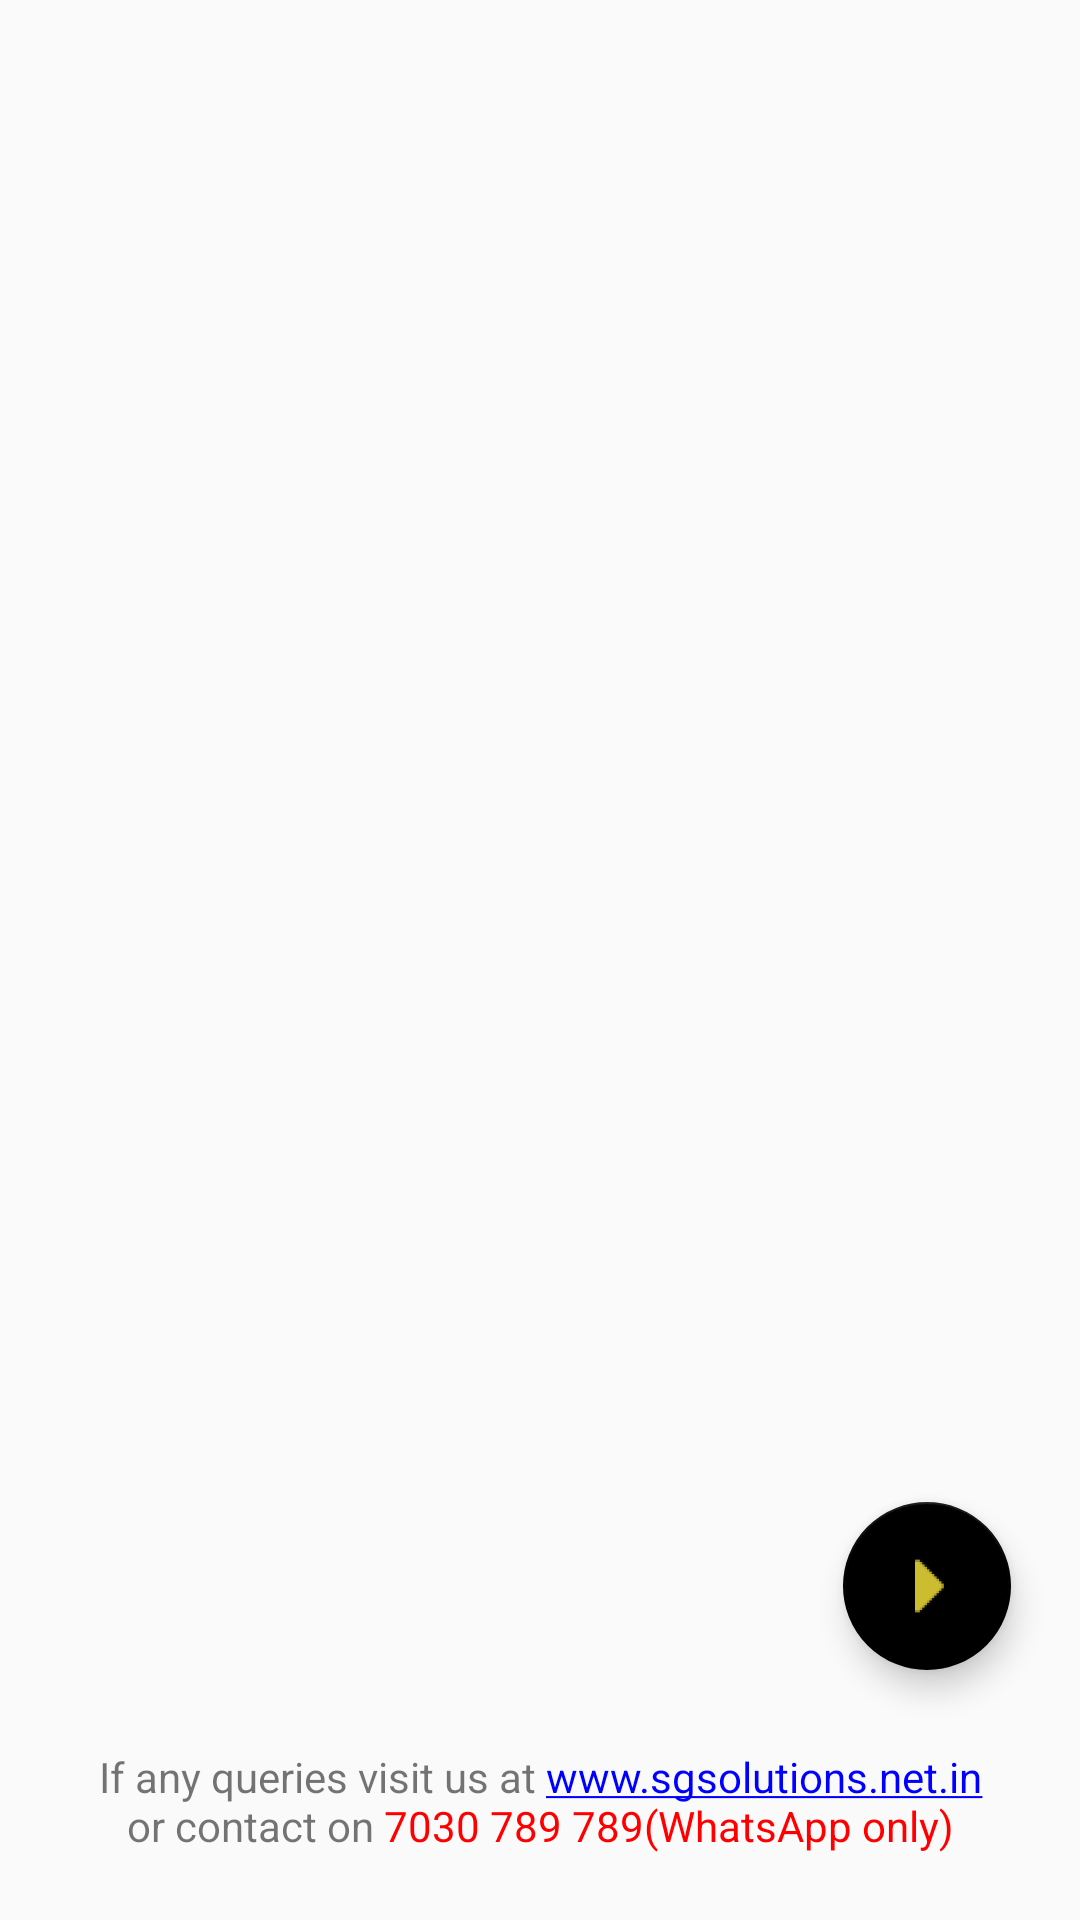

Icon bounding boxes for this 1080px x 1920px phone screenshot, format (x1, y1, x2, y2):
right arrow: (843, 1502, 1011, 1670)
